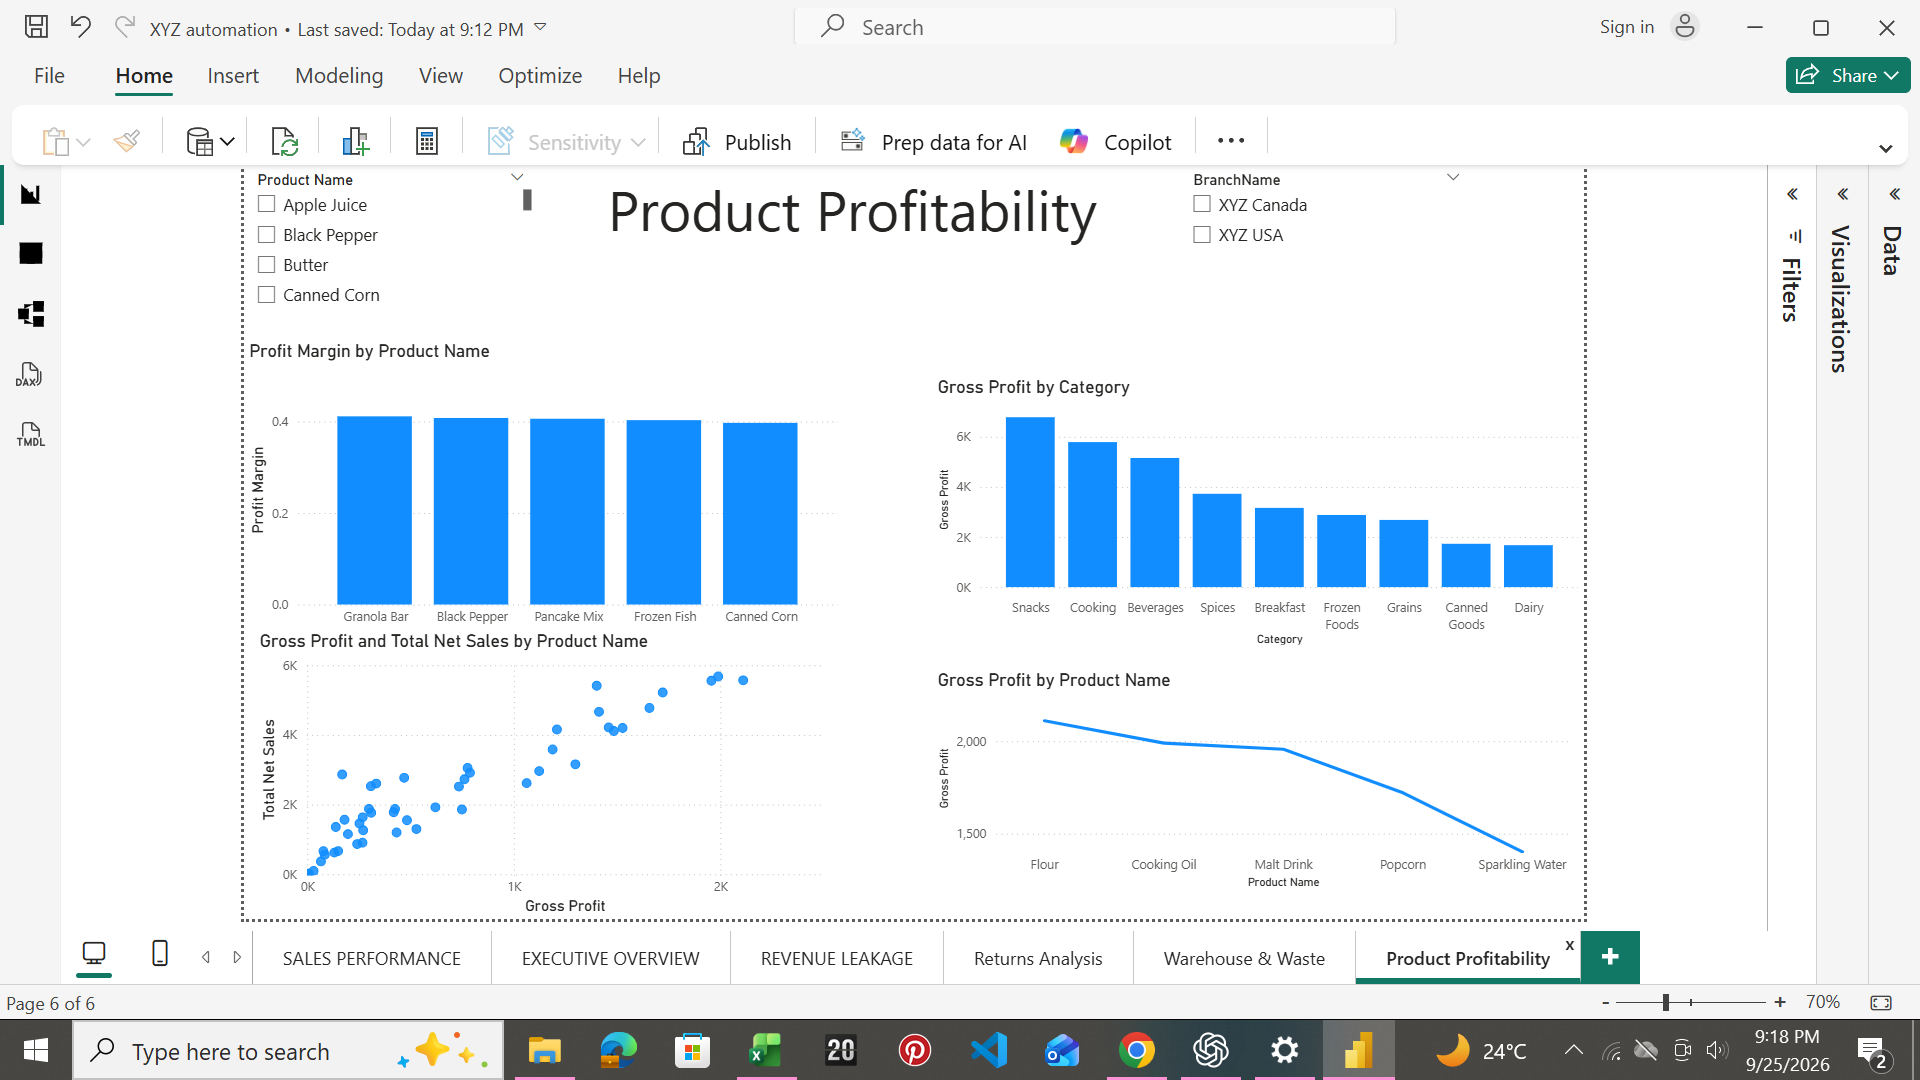

The dashboard page shown, as its layout file describes it:
{"tool":"powerbi","page":{"name":"Product Profitability","canvas":[1280,720],"ordinal":5},"visuals":[{"type":"lineChart","fields":{"Category":["stg order_items.Product Name"],"Y":["Table.Gross Profit"]},"box":[657.6,481.9,621.7,213.5],"z":0},{"type":"columnChart","fields":{"Y":["Table.Profit Margin"],"Category":["stg order_items.Product Name"]},"box":[0,168.2,572.6,294.8],"z":1},{"type":"scatterChart","fields":{"Category":["stg order_items.Product Name"],"X":["Table.Gross Profit"],"Y":["Table.Total Net Sales"]},"box":[9.4,444.1,563.2,275.9],"z":2},{"type":"columnChart","fields":{"Category":["stg products.Category"],"Y":["Table.Gross Profit"]},"box":[657.6,202.2,621.7,260.8],"z":3},{"type":"slicer","fields":{"Values":["stg order_items.Product Name"]},"box":[0,0,279.7,149.3],"z":4},{"type":"slicer","fields":{"Values":["stg branches.BranchName"]},"box":[893.9,0,279.7,149.3],"z":5},{"type":"textbox","box":[342,0,551.8,168.2],"z":6}]}

Visuals, with their boxes on the page's 1280x720 design canvas (x1, y1, x2, y2). These are canvas units, not pixel positions in the 1920x1080 screenshot, which may show the page scaled, cropped or inside an application window:
lineChart - stg order_items.Product Name x Table.Gross Profit: l=658, t=482, r=1279, b=695
columnChart - Table.Profit Margin x stg order_items.Product Name: l=0, t=168, r=573, b=463
scatterChart - stg order_items.Product Name x Table.Gross Profit: l=9, t=444, r=573, b=720
columnChart - stg products.Category x Table.Gross Profit: l=658, t=202, r=1279, b=463
slicer - stg order_items.Product Name: l=0, t=0, r=280, b=149
slicer - stg branches.BranchName: l=894, t=0, r=1174, b=149
textbox: l=342, t=0, r=894, b=168
